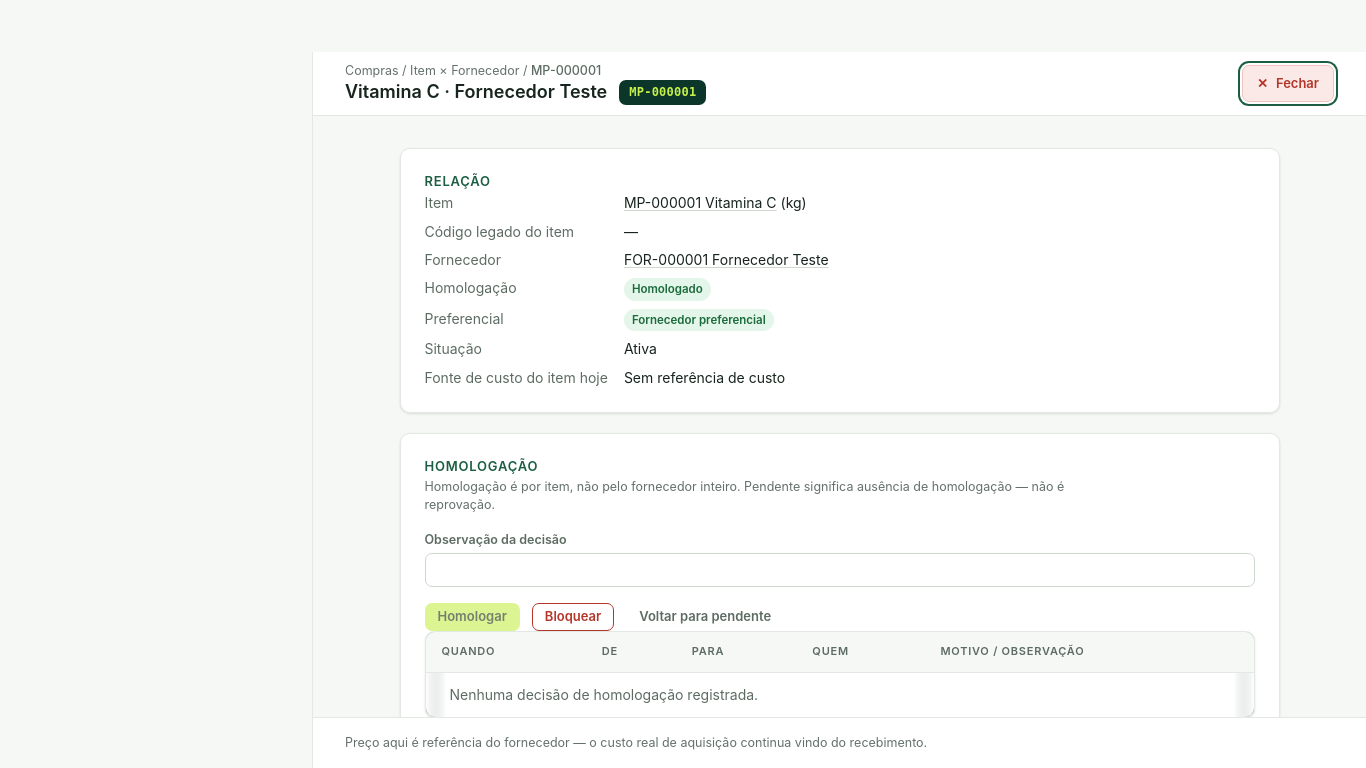
SUPPLIER-QUALITY-REJECTION-REASON-01 — Bloquear no detalhe da relação › envia o motivo aparado, fecha o diálogo e o histórico devolvido mostra o motivo
Expected: the heading "Vitamina C · Fornecedor Teste" is shown, 345,81 -> 607,104
Click the button "Bloquear" at (573,617), box 532,603 -> 614,631
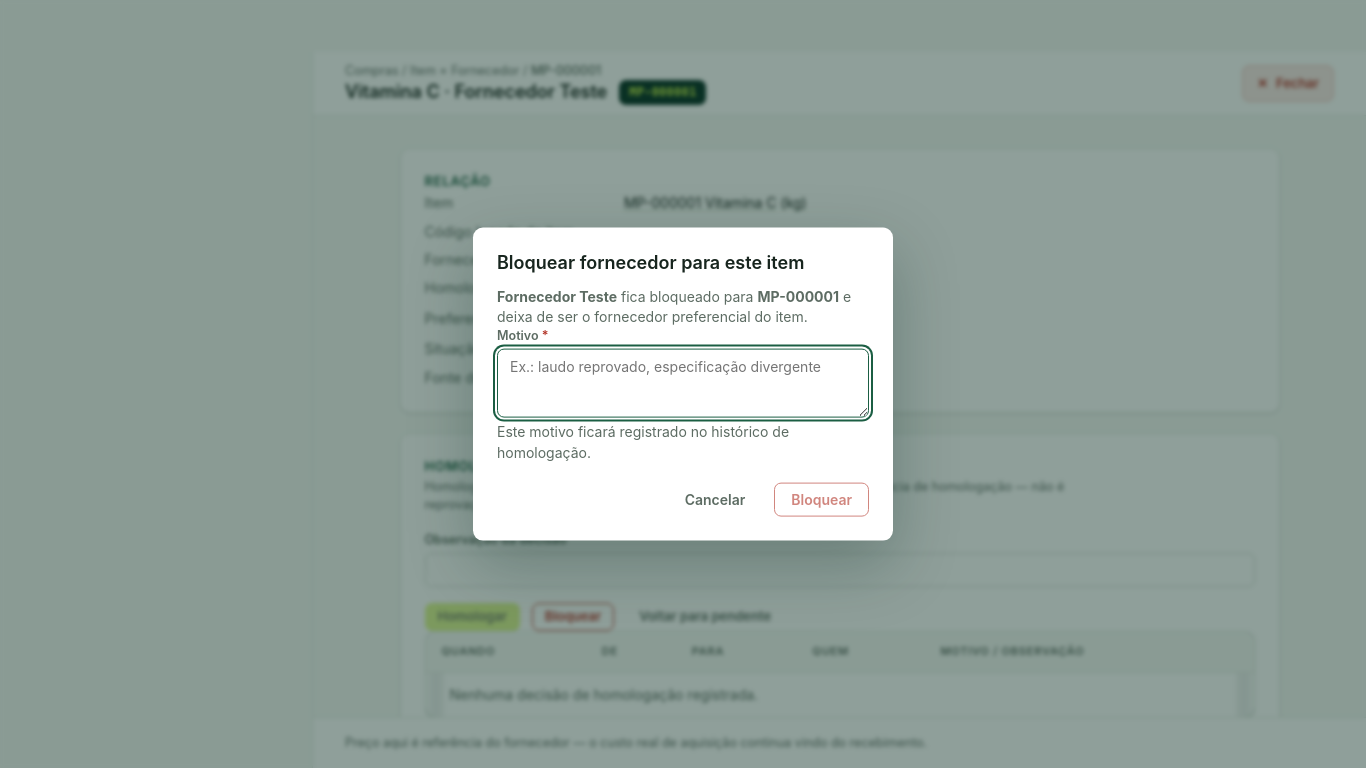
Now the text "deixa de ser o fornecedor preferencial do item" is shown, box 497,287 -> 851,324
Type "  Laudo reprovado  " into the text box labelled "Motivo *" at (683,383), box 497,349 -> 869,418
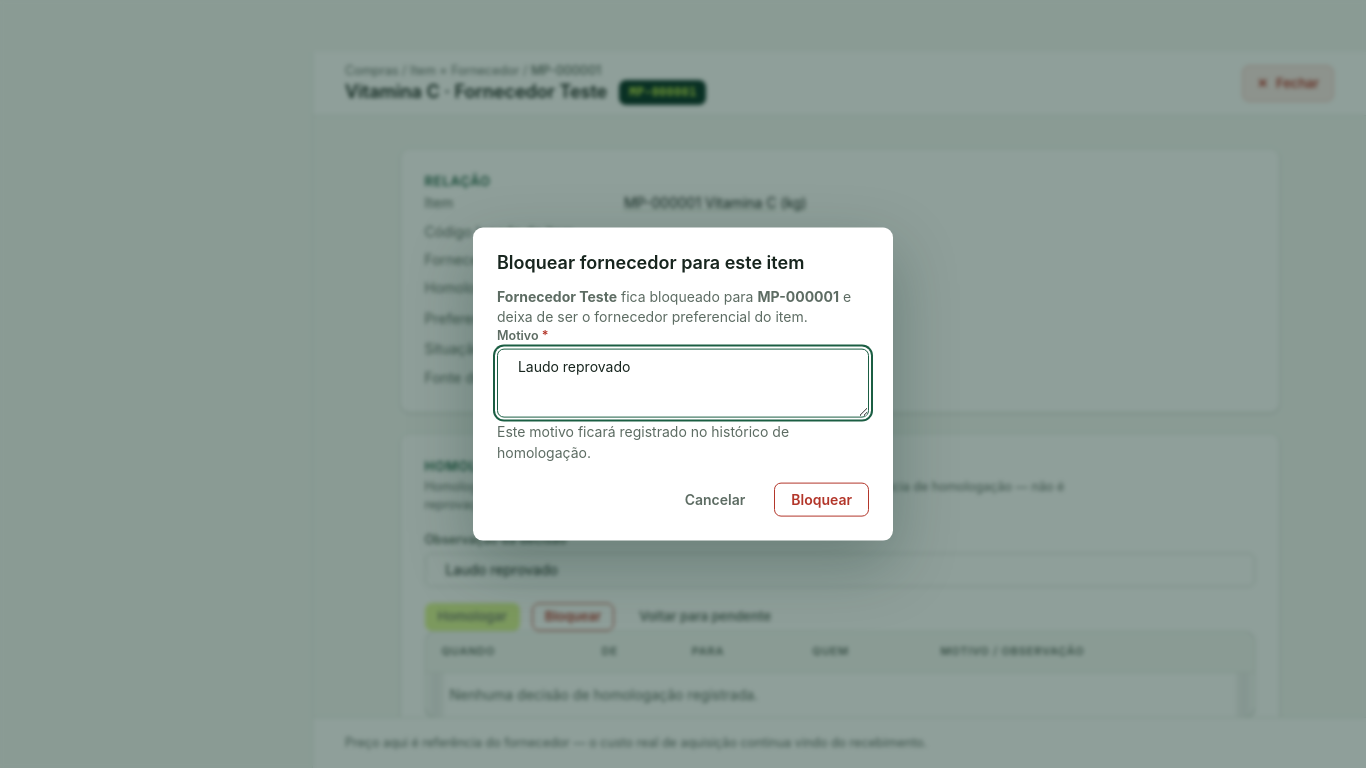
Click the button "Bloquear" at (822,499), box 774,482 -> 869,516
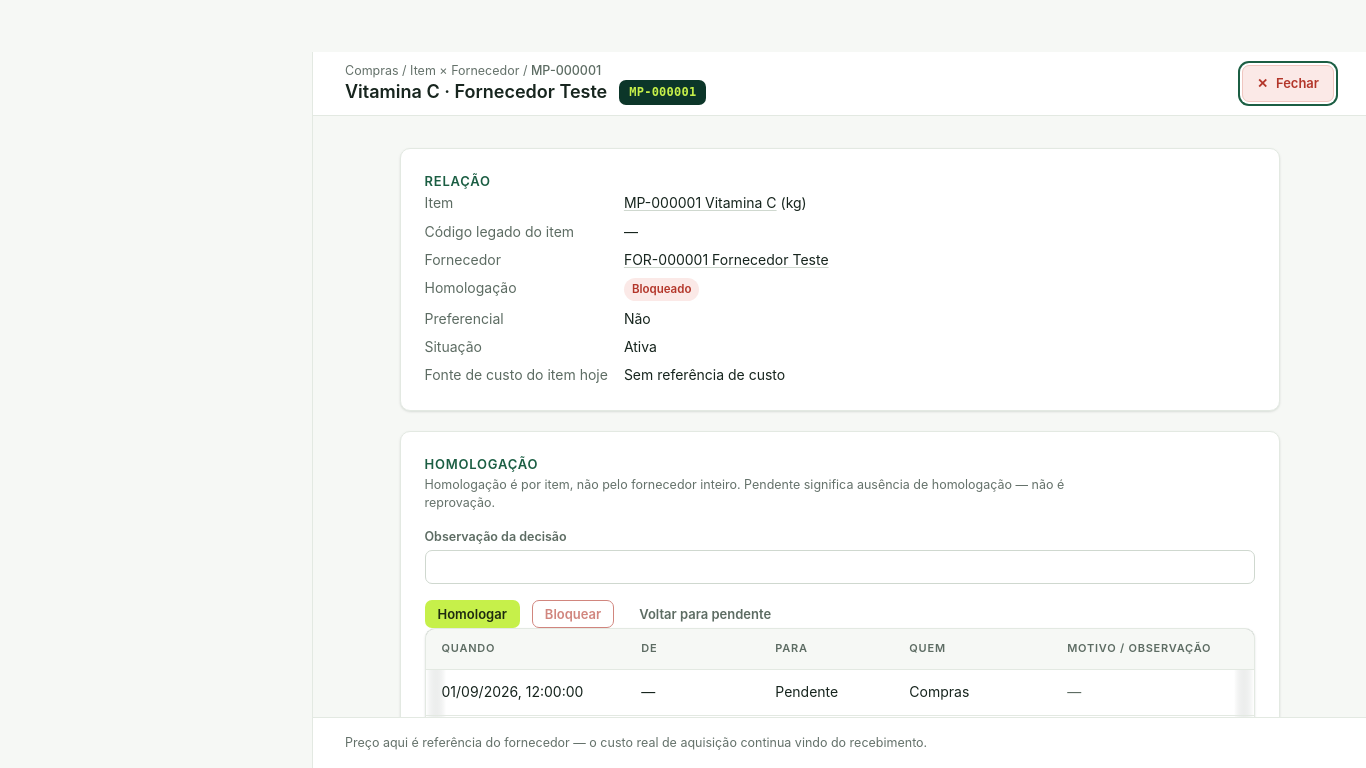
Now the field labelled "Observação da decisão" is empty, box 424,550 -> 1254,584
Now the button "Bloquear" is disabled, box 532,600 -> 614,628
